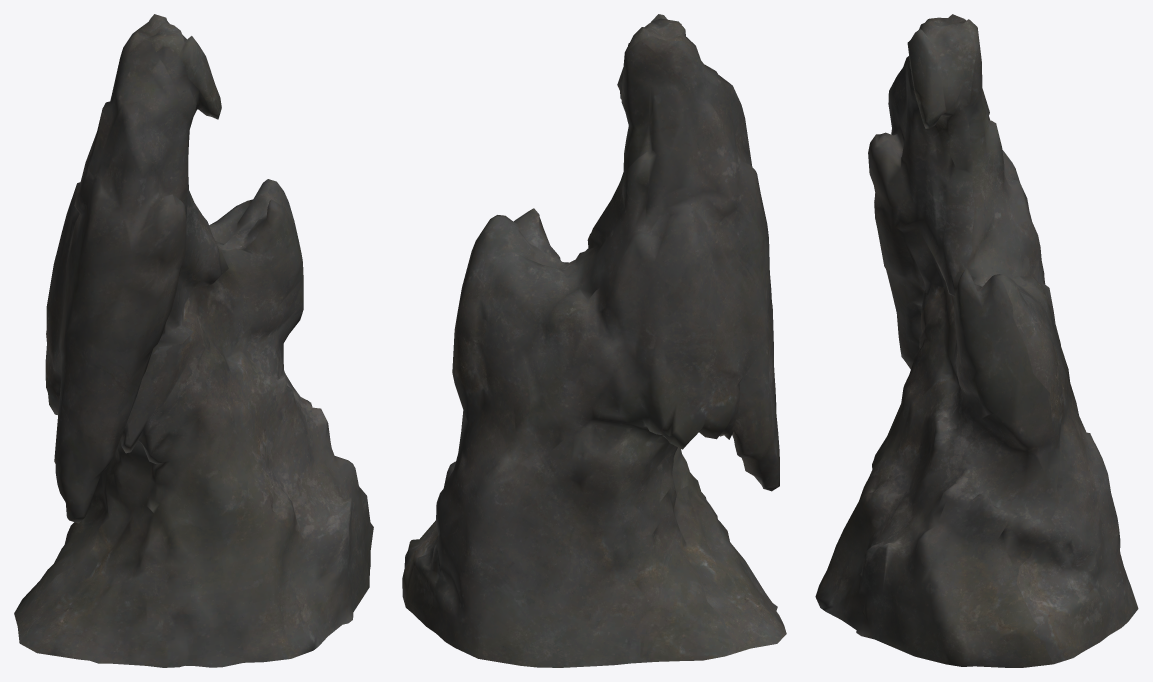
File: Cliff_W3_CraterSpike03.fbx
3 renders of one model, left to right at view 1: azimuth 30°, elevation 25°; view 2: azimuth 150°, elevation 25°; view 3: azimuth 270°, elevation 25°, orthographic. The views are drawn at different scales.
Parts seen in each view (by area): view 1: SM_CraterSpike_03.mo; view 2: SM_CraterSpike_03.mo; view 3: SM_CraterSpike_03.mo.
Boxes of the visible parts, x1,y1,x2,y2 form: SM_CraterSpike_03.mo: (14, 14, 373, 667); SM_CraterSpike_03.mo: (402, 14, 786, 667); SM_CraterSpike_03.mo: (815, 14, 1138, 667).
Size of the model in its own units: 9158 by 15053 by 7963.
Materials: 1 (1 with a texture image).
